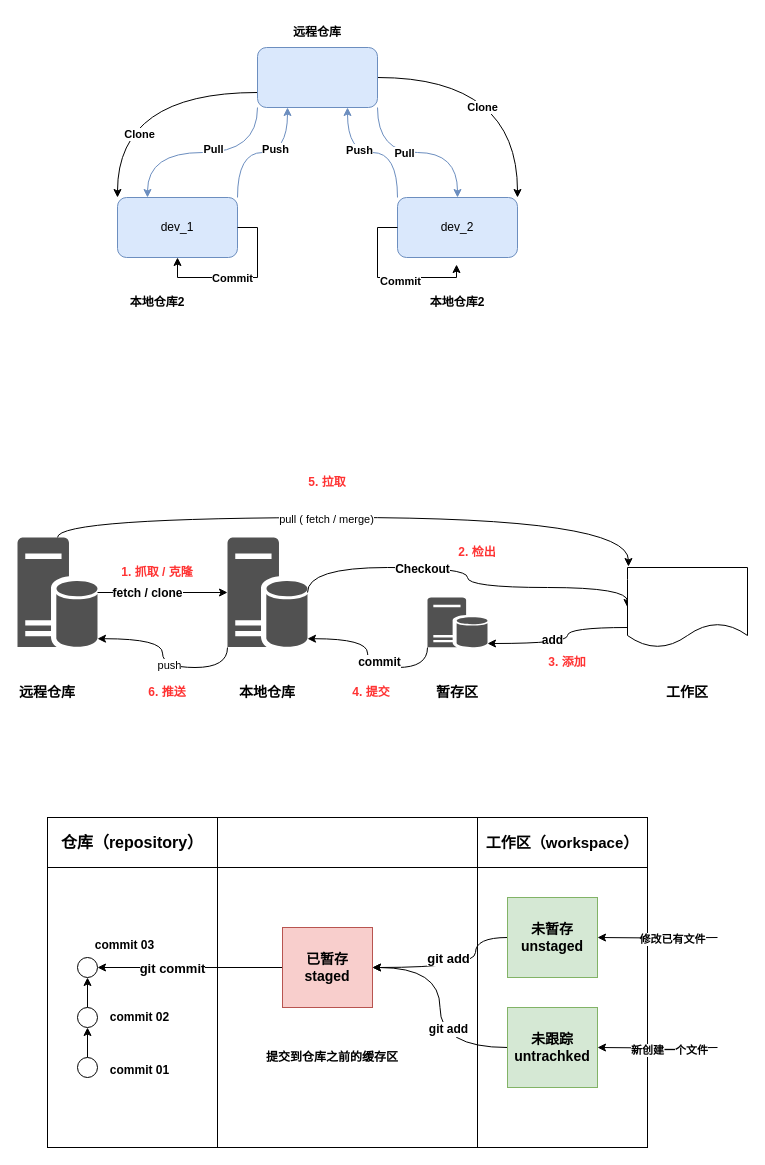
Some shapes in this 765 by 1165 pixel diagram are drawn without their labels. Each missing label, with the box of its shape:
Workspace: (626, 566, 748, 648)
共享版本库: (256, 46, 378, 108)
暂存区（index）: (216, 816, 478, 868)
